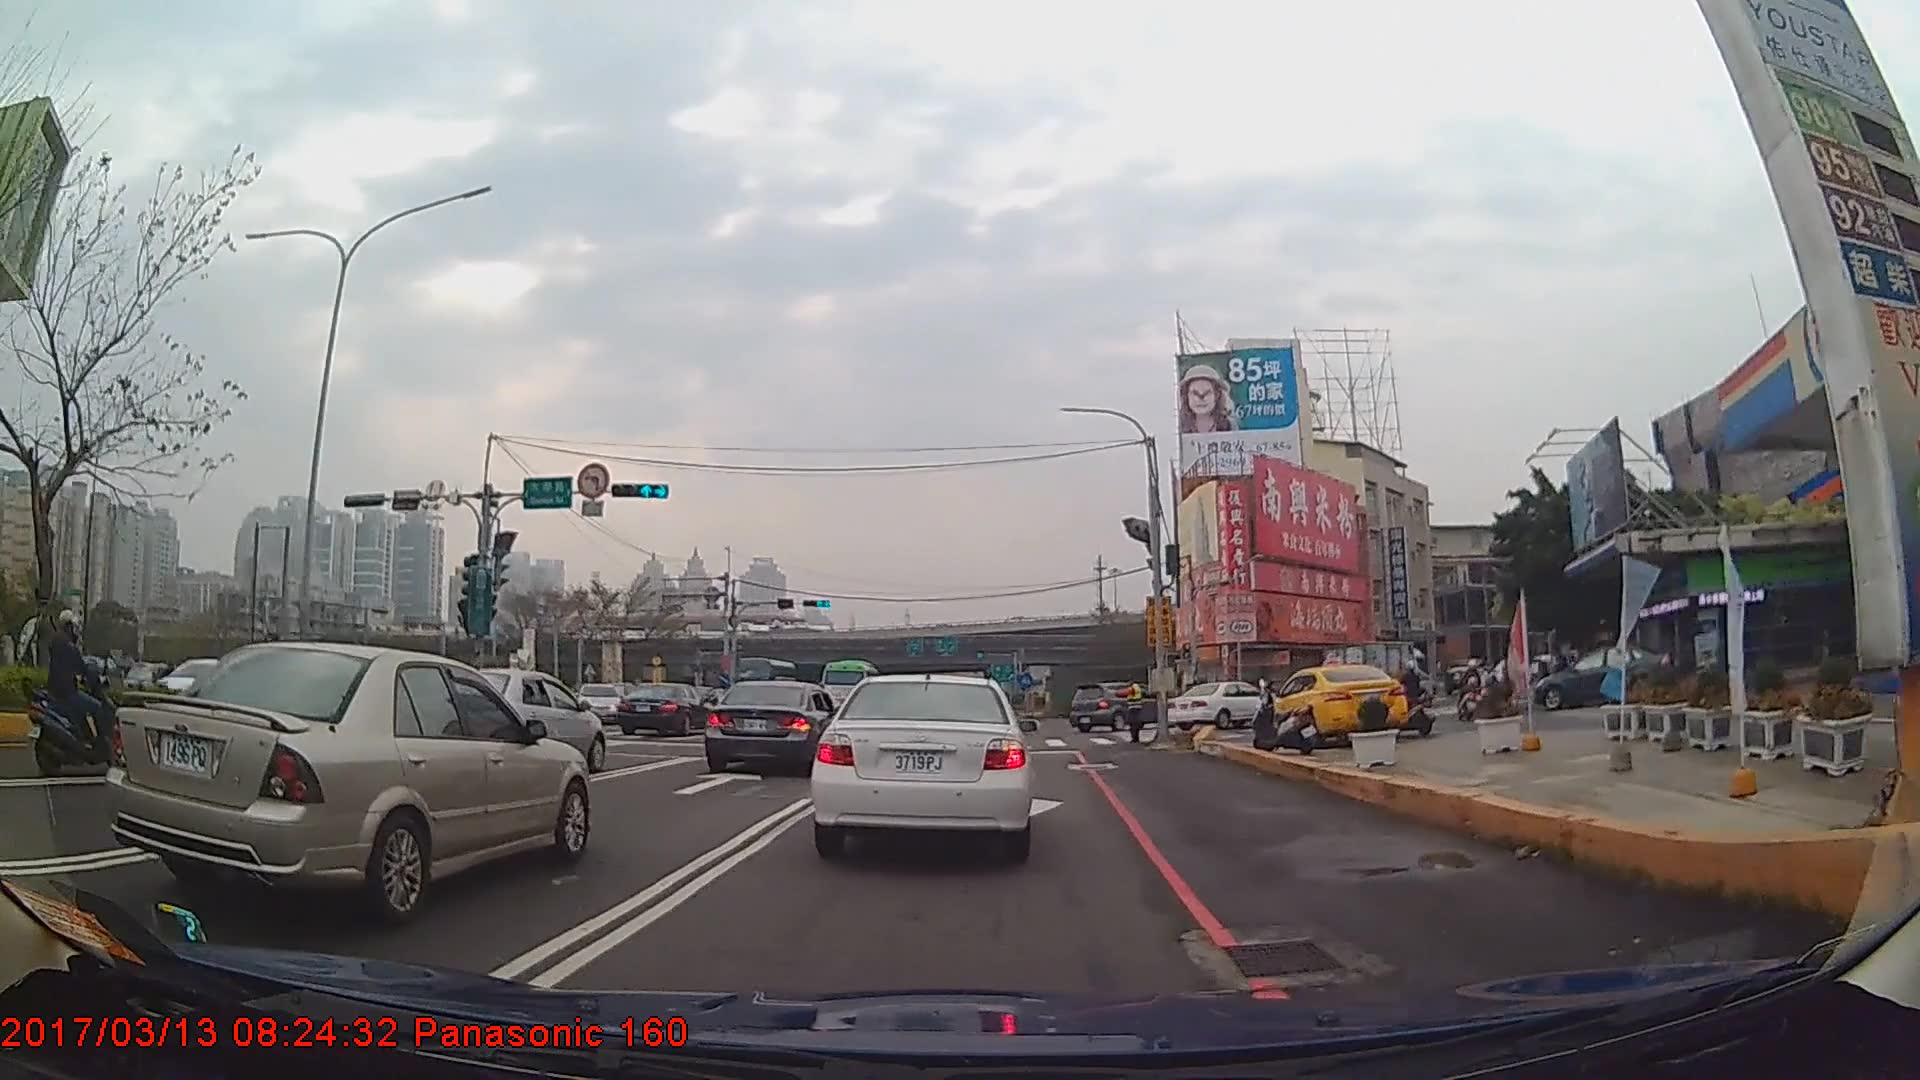pedestrian: (1108, 675, 1145, 745)
rider: (28, 613, 125, 779), (1392, 663, 1435, 740), (1458, 658, 1482, 720)
vehicle: (109, 641, 594, 921), (811, 664, 1033, 860), (421, 667, 606, 775), (700, 678, 842, 777), (1264, 661, 1409, 747), (1531, 645, 1673, 711), (1316, 640, 1433, 710), (1069, 680, 1179, 730), (1165, 680, 1276, 729), (616, 681, 710, 735), (818, 657, 881, 714)
